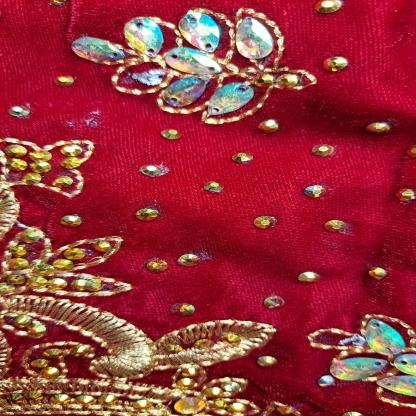spot: (57, 110, 115, 129), (340, 220, 368, 240), (192, 248, 223, 261)
